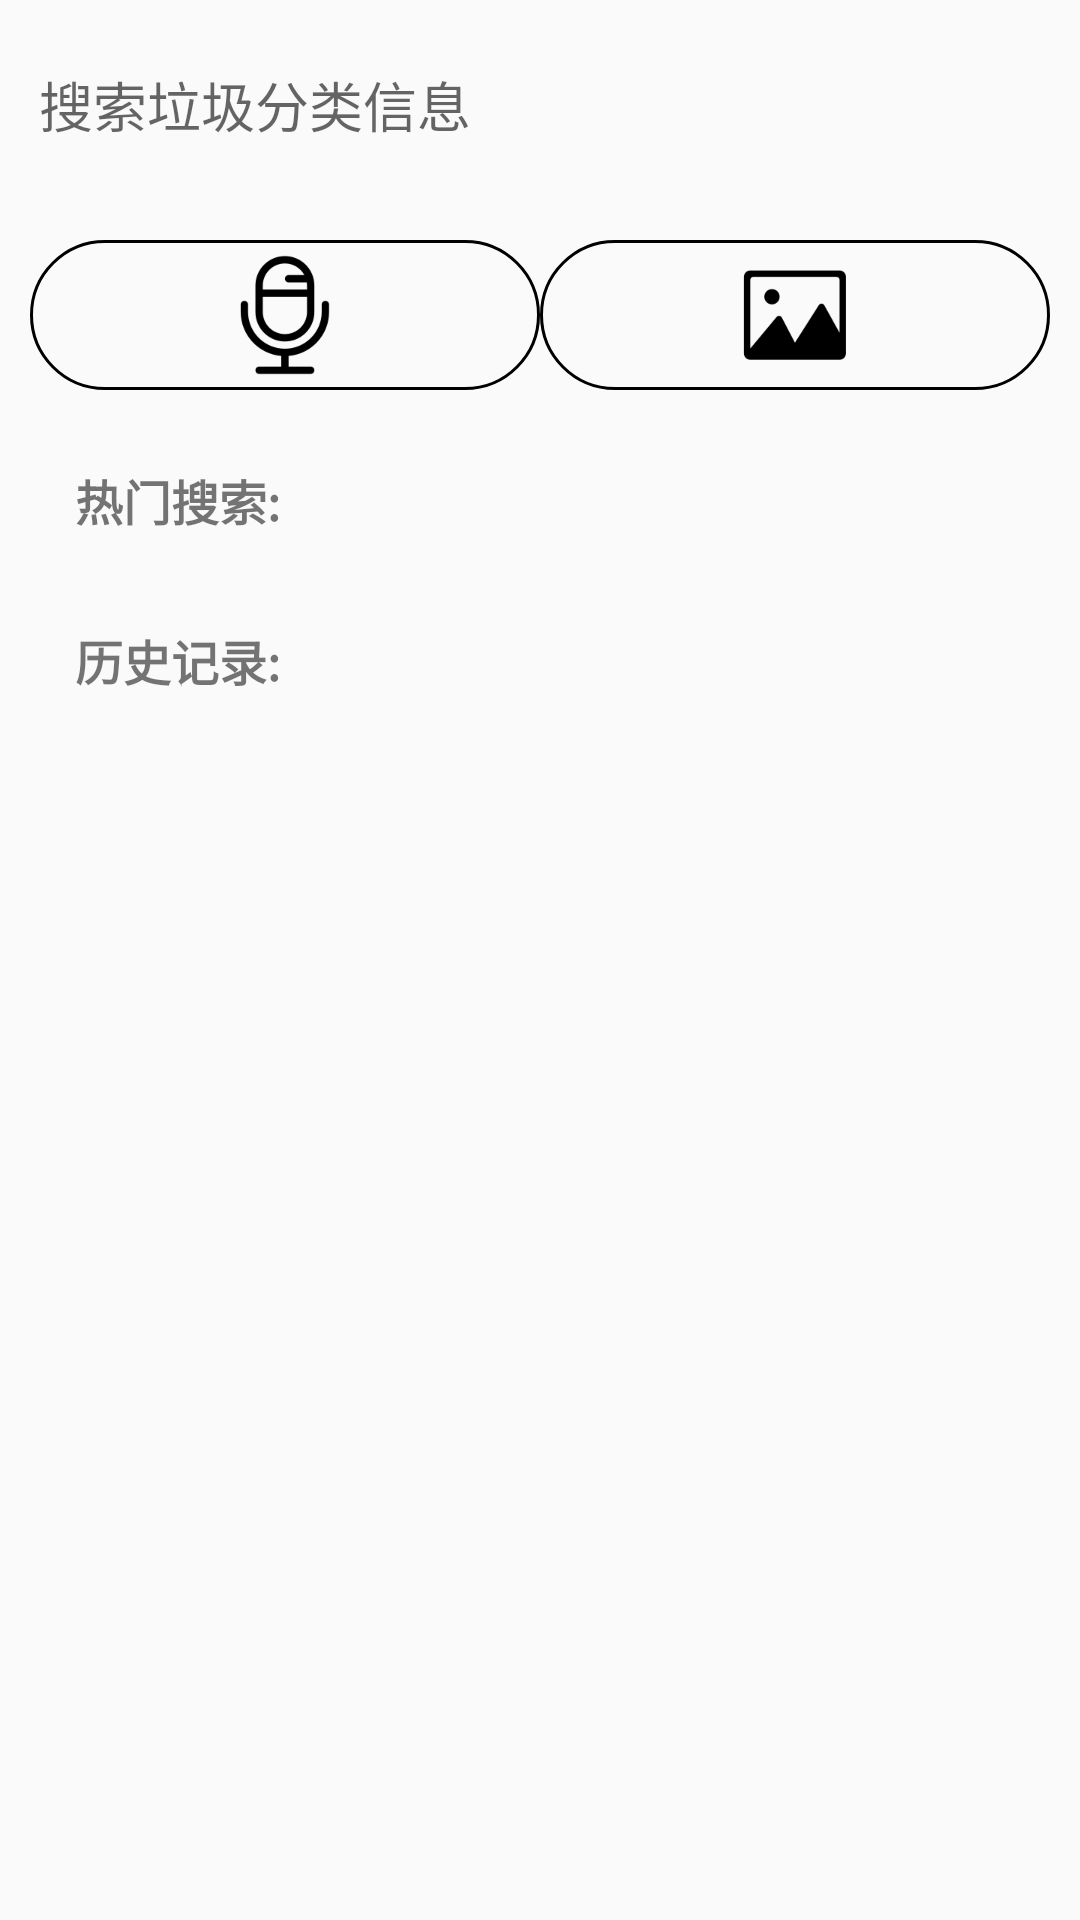

Icon bounding boxes for this 1080px×1920px phone screenshot, format (x1, y1, x2, y2):
photo: (743, 270, 846, 360)
